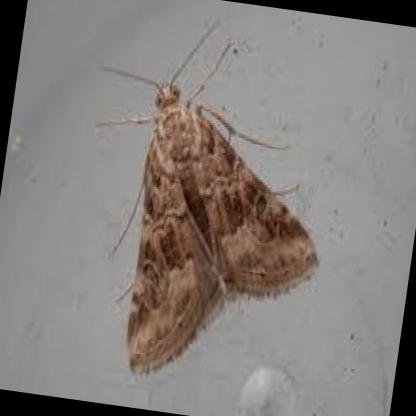Hellula undalis: (88, 10, 322, 389)
